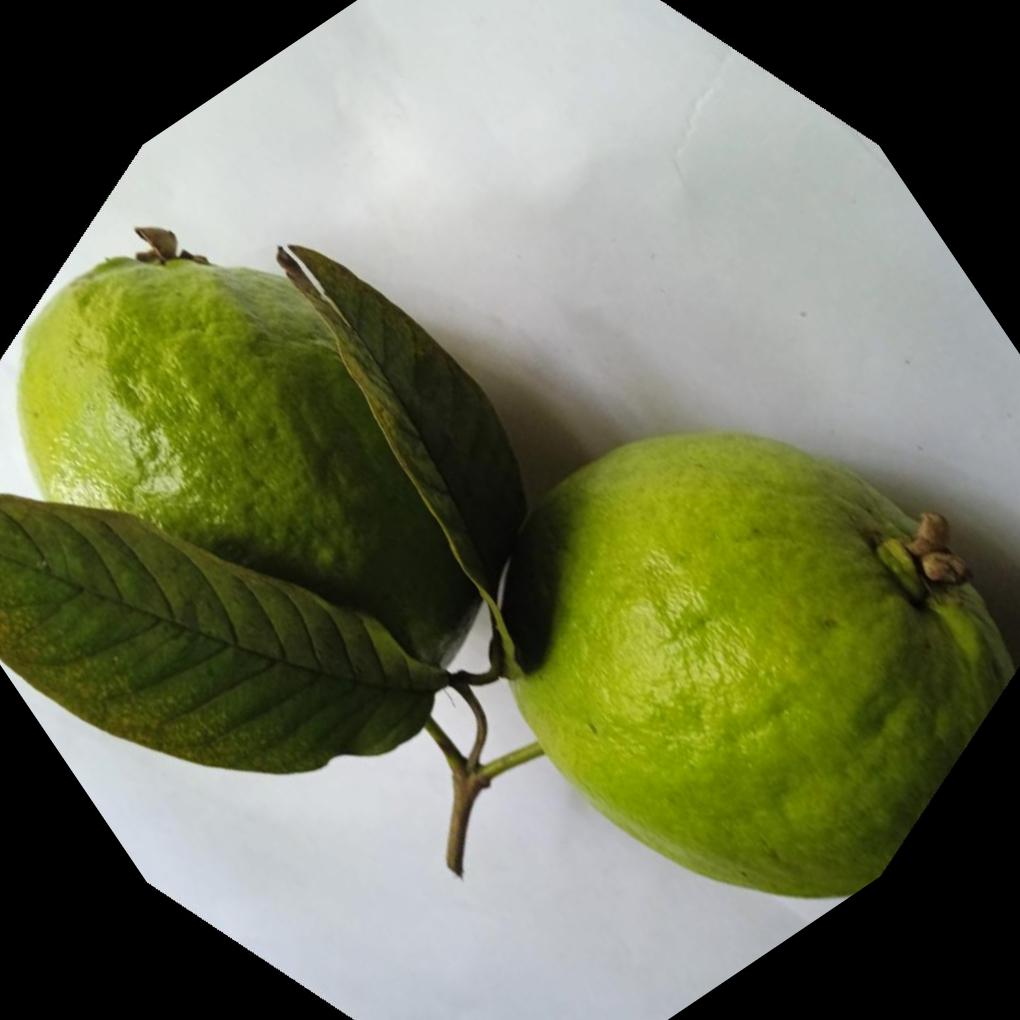FreshGuava: (0, 228, 1016, 898)
